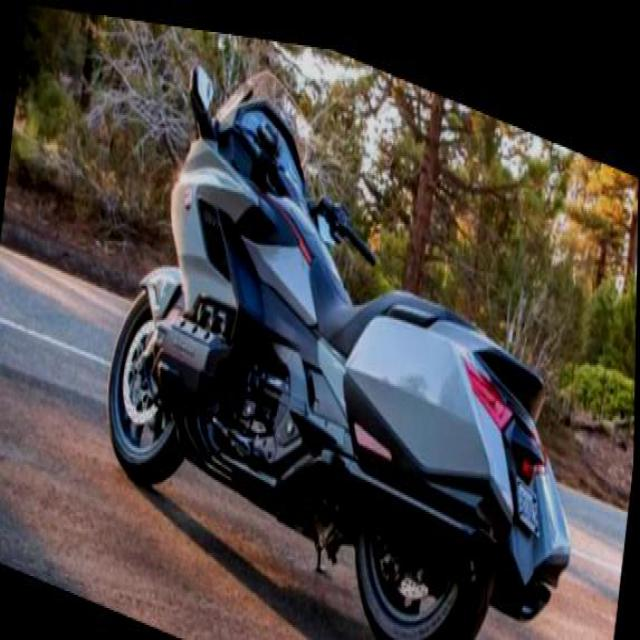Gold Wing: (90, 11, 614, 638)
